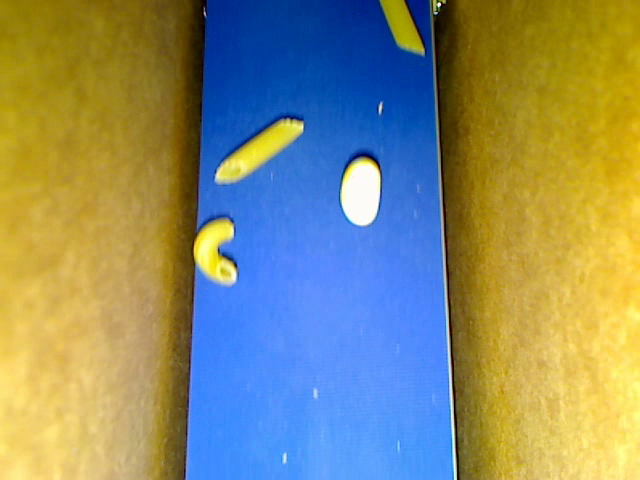elbow: (192, 215, 238, 287)
penne: (214, 118, 304, 182), (379, 1, 426, 57)
